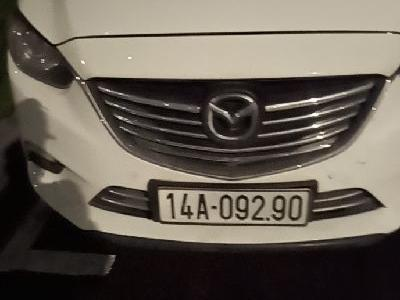car: (155, 182, 312, 228)
